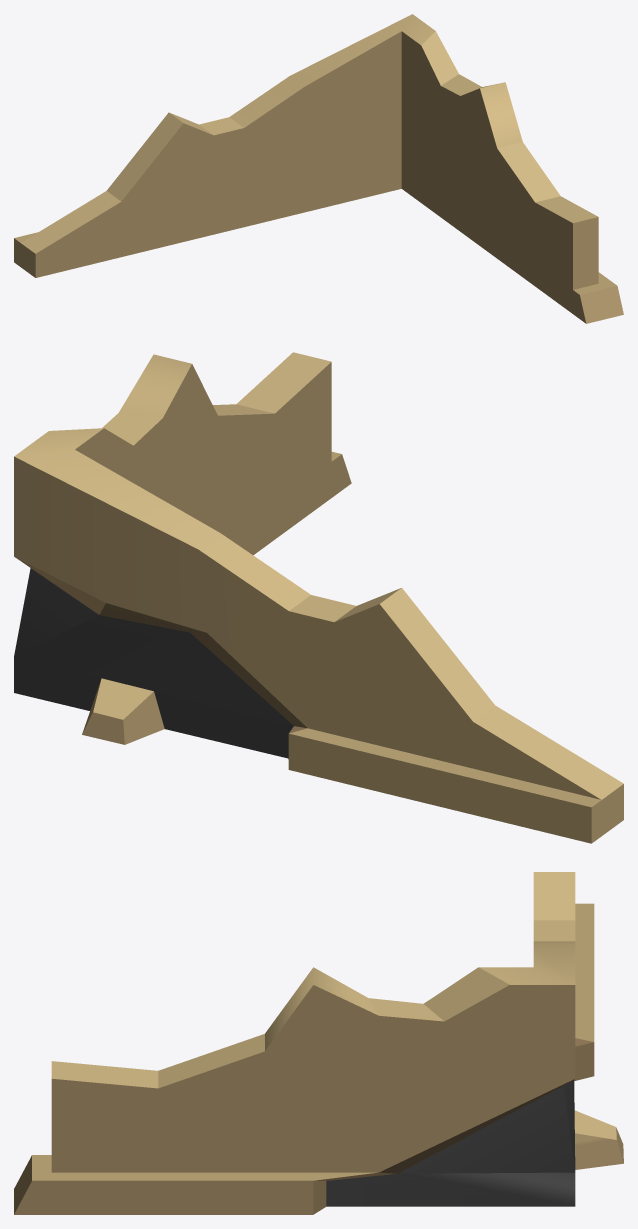
File: SM_Env_Wall_Damaged_01.gltf
The picture shows the model from 3 angles, top to bottom: view 1: azimuth 30°, elevation 25°; view 2: azimuth 150°, elevation 25°; view 3: azimuth 270°, elevation 25°; orthographic projection. The views are drawn at different scales.
Parts seen in each view (by area): view 1: SM_Env_Wall_Damaged_01; view 2: SM_Env_Wall_Damaged_01; view 3: SM_Env_Wall_Damaged_01.
Boxes of the visible parts, x1=… form: SM_Env_Wall_Damaged_01: x1=14, y1=14, x2=623, y2=323; SM_Env_Wall_Damaged_01: x1=14, y1=352, x2=623, y2=843; SM_Env_Wall_Damaged_01: x1=14, y1=872, x2=623, y2=1214.
Bounding box in the file's own units: 6.66 × 2.48 × 6.19.
Materials: 1 (1 with a texture image).
